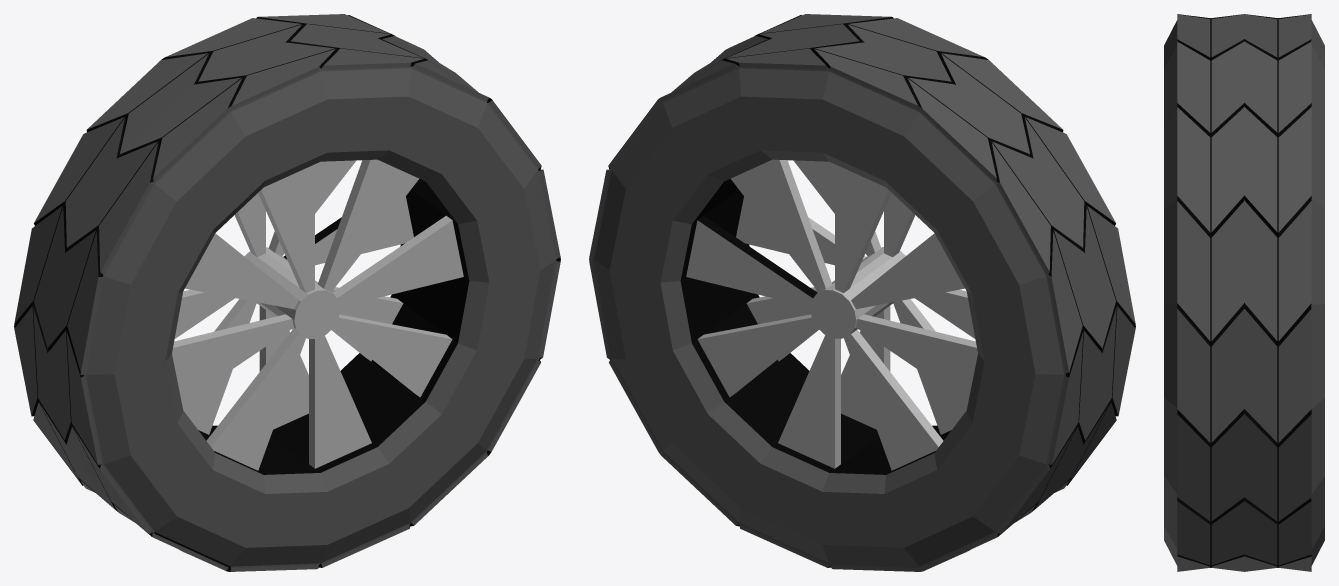
Rendered from SM_Int_Wheel.fbx.
3 views of the same model, side by side, from view 1: azimuth 30°, elevation 25°; view 2: azimuth 150°, elevation 25°; view 3: azimuth 270°, elevation 25° (orthographic).
Visible parts, largest first — view 1: Cylinder.001; view 2: Cylinder.001; view 3: Cylinder.001.
Part boxes in pixels (x1,y1,x2,y2): Cylinder.001: [14, 14, 560, 571]; Cylinder.001: [589, 14, 1135, 571]; Cylinder.001: [1164, 14, 1324, 571].
Size of the model in its own units: 0.5 by 0.5 by 0.1441.
2 materials, 2 textured.
